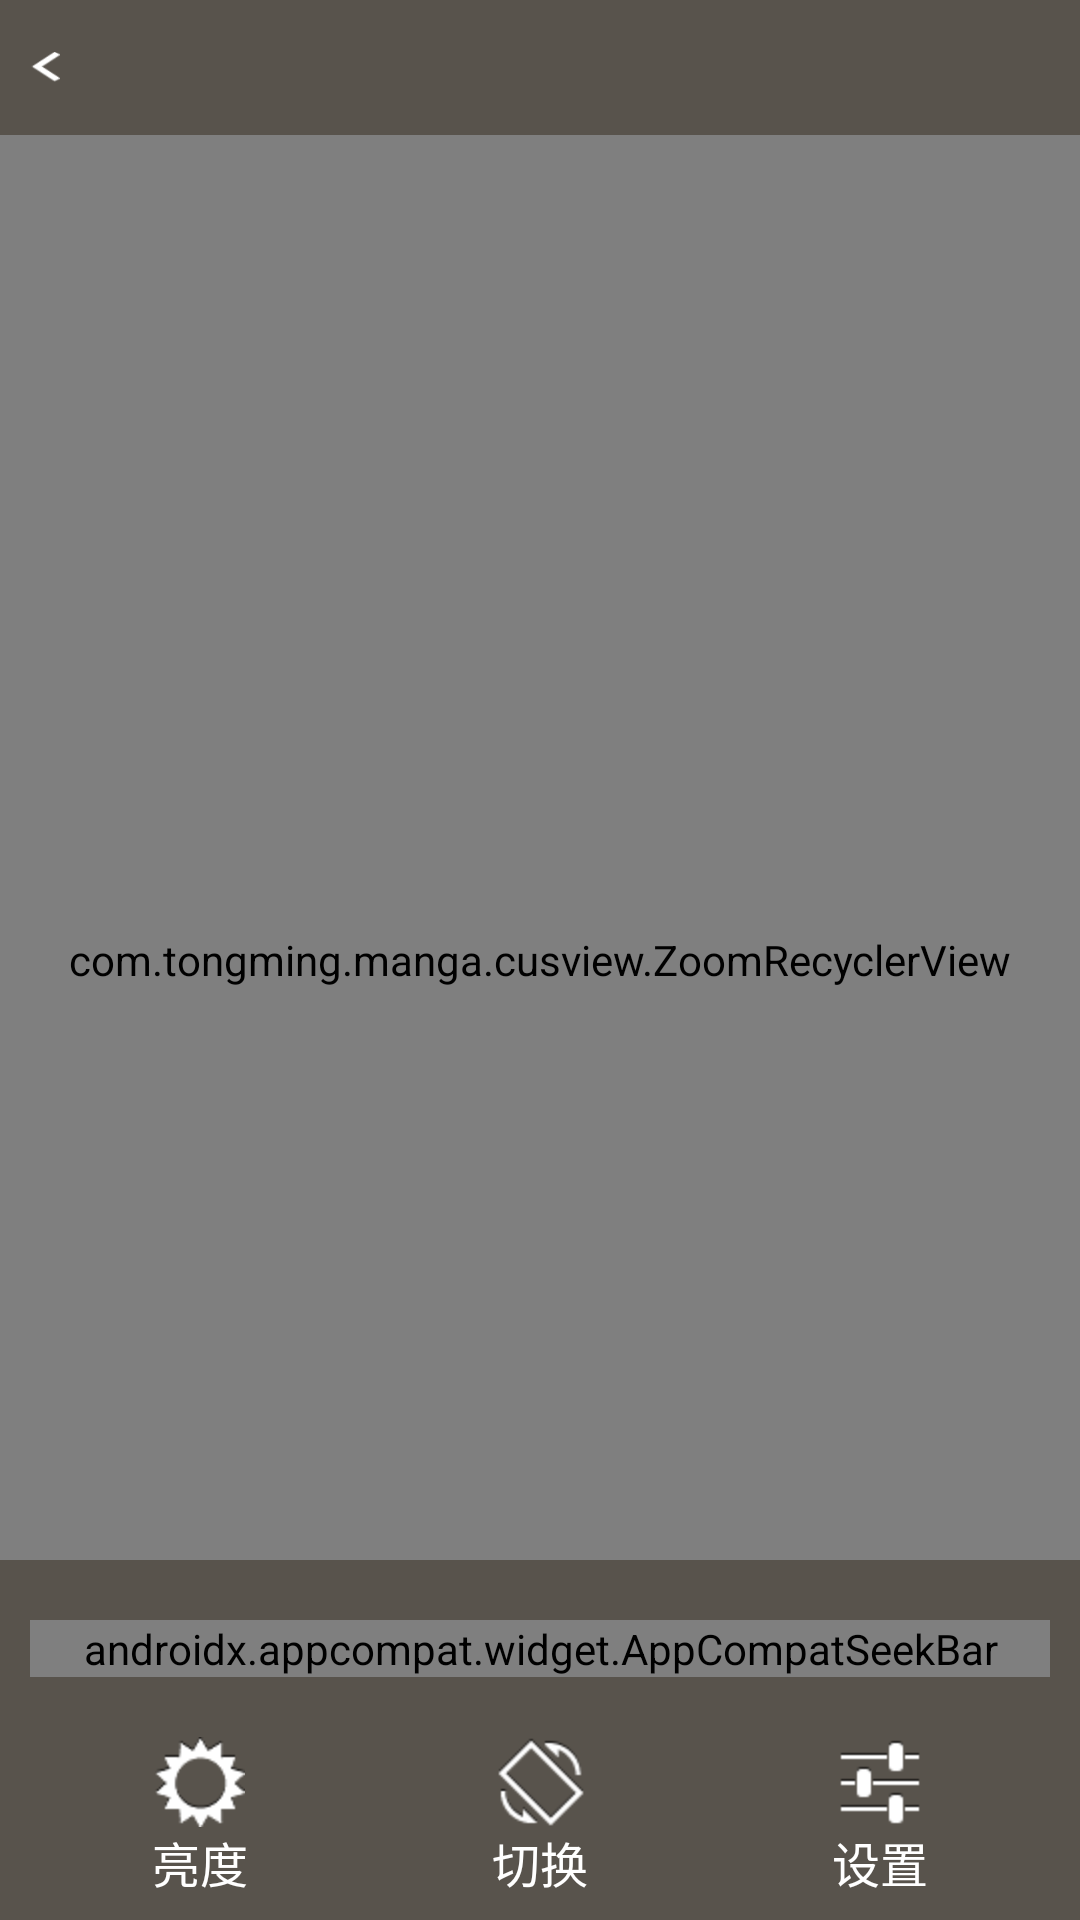

Named icons in this screenshot (1080w x 1920h) and their bounding boxes, (x1, y1, x2, y2):
back: (32, 52, 60, 82)
rotate: (498, 1739, 584, 1826)
